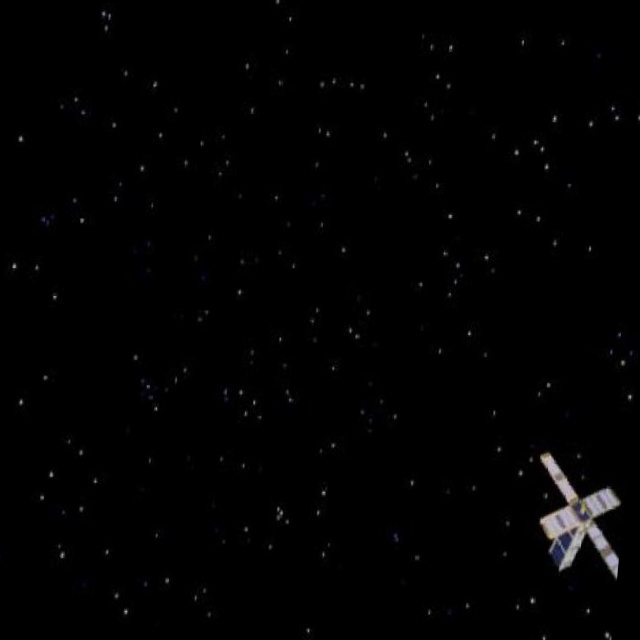satellite: (519, 451, 628, 595)
